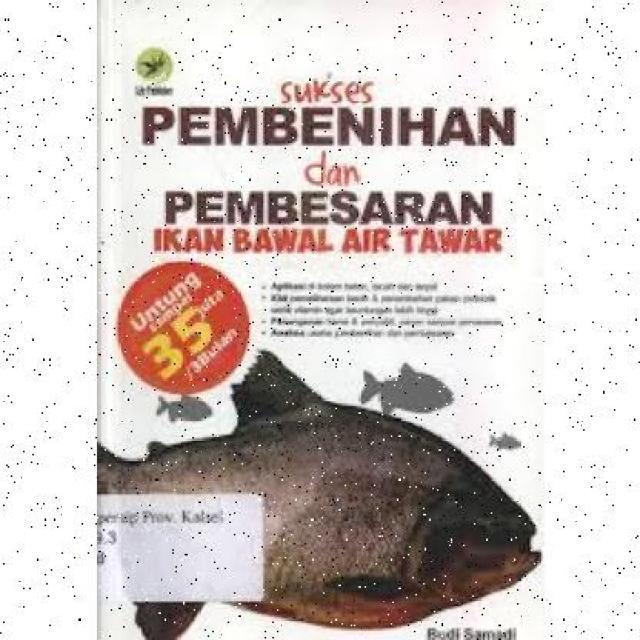ikan-pacu: (95, 396, 542, 613)
